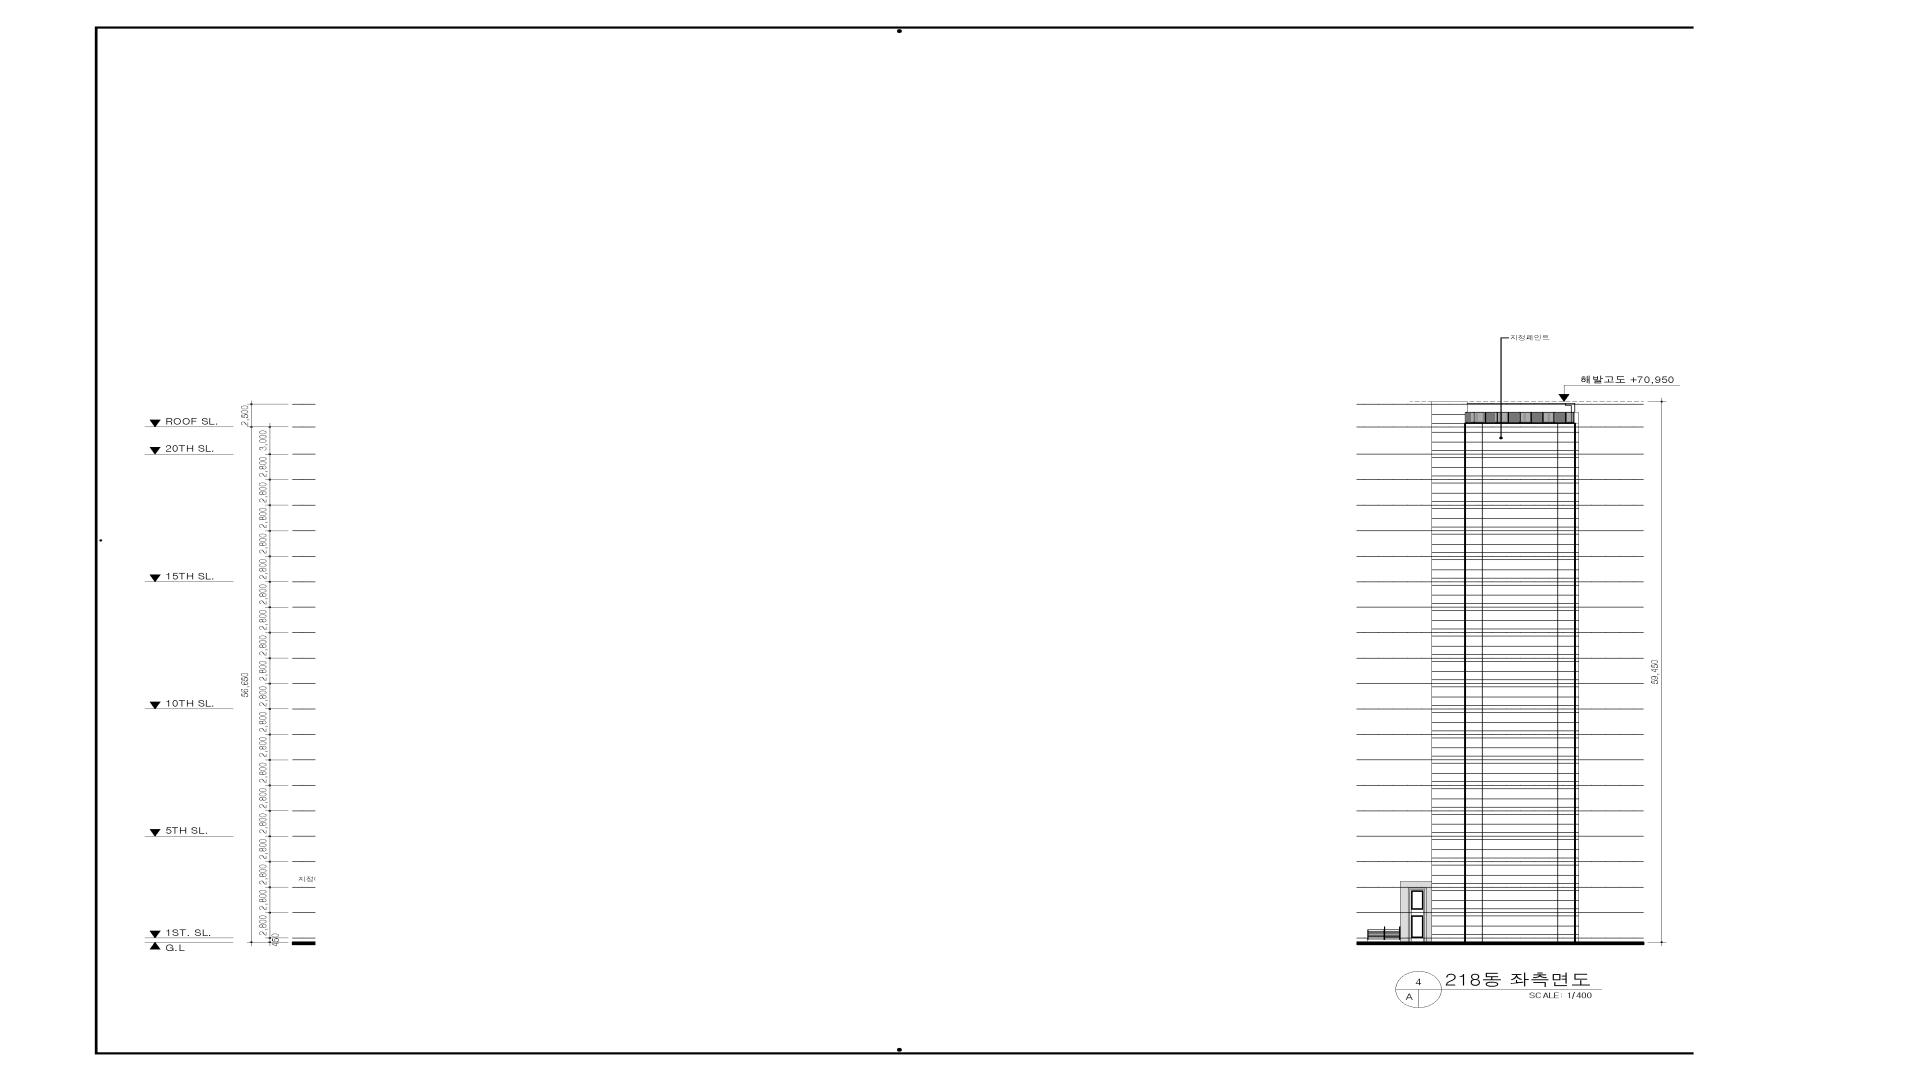wall: (1400, 401, 1578, 942)
window: (1411, 915, 1423, 939), (1411, 890, 1424, 910)
